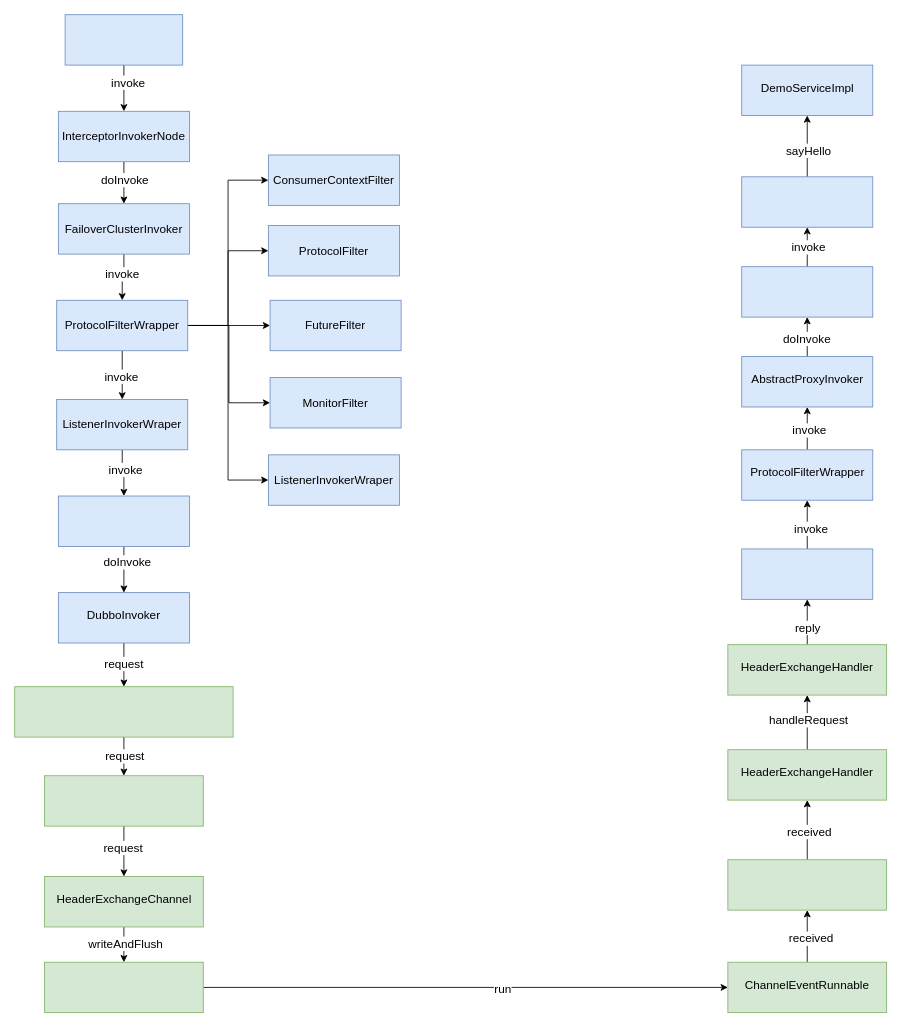
This 901x1027 diagram has some shape labels left out. The centre of each missing label's shape, as x and y in pixels:
AsyncToSyncInvoker: (123,520)
DecodeHandler: (807,884)
DubboProtocol: (807,573)
HeaderExchangeClient: (123,800)
JavassistProxyFactory: (807,291)
MockClusterInvoker: (123,39)
NioSocketChannel: (123,987)
ReferenceCountExchangeClient: (123,711)
Wrapper: (807,201)
